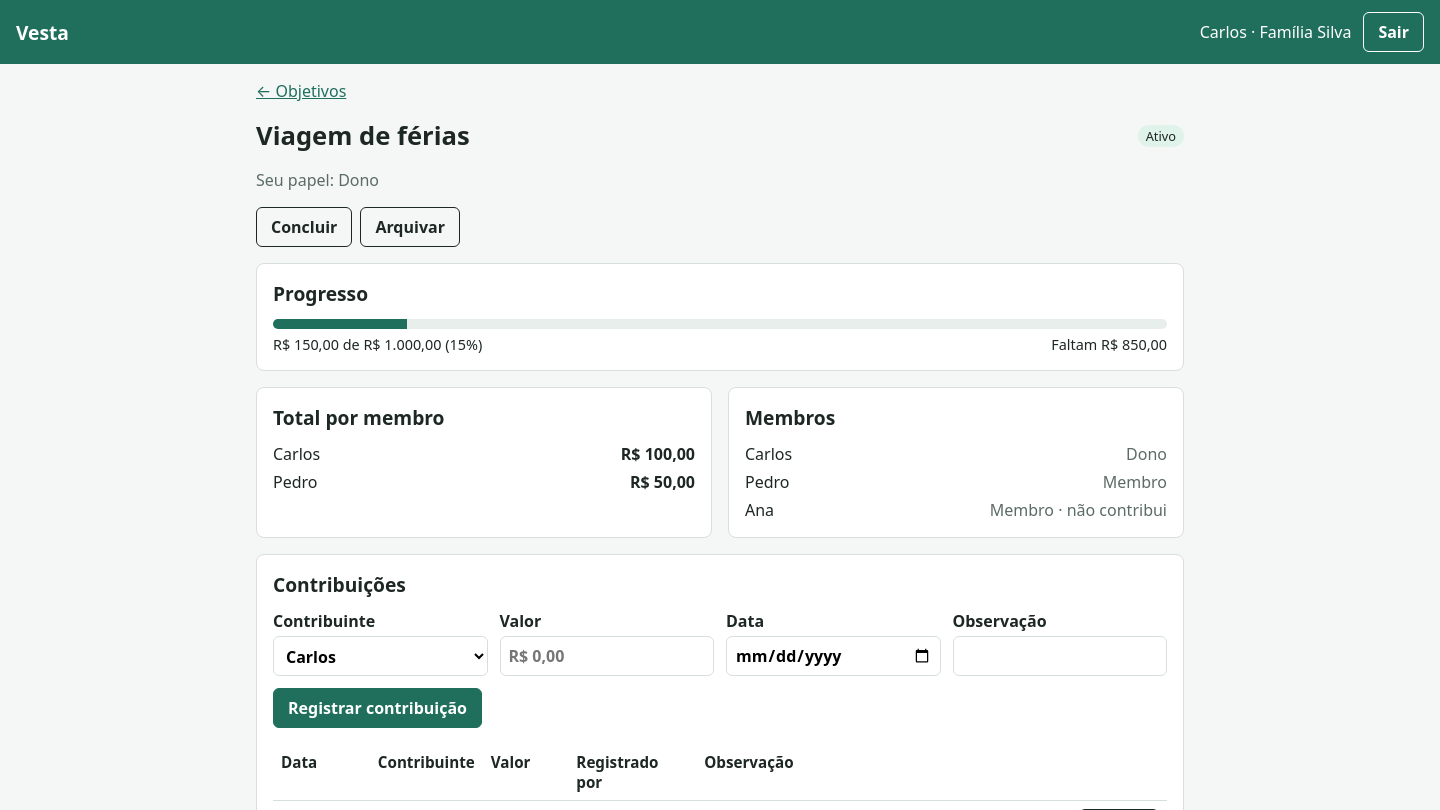
GoalDetailPage › shows the backend message when an action is rejected
Click the button "Concluir" at (304, 227), box [256, 207, 352, 247]
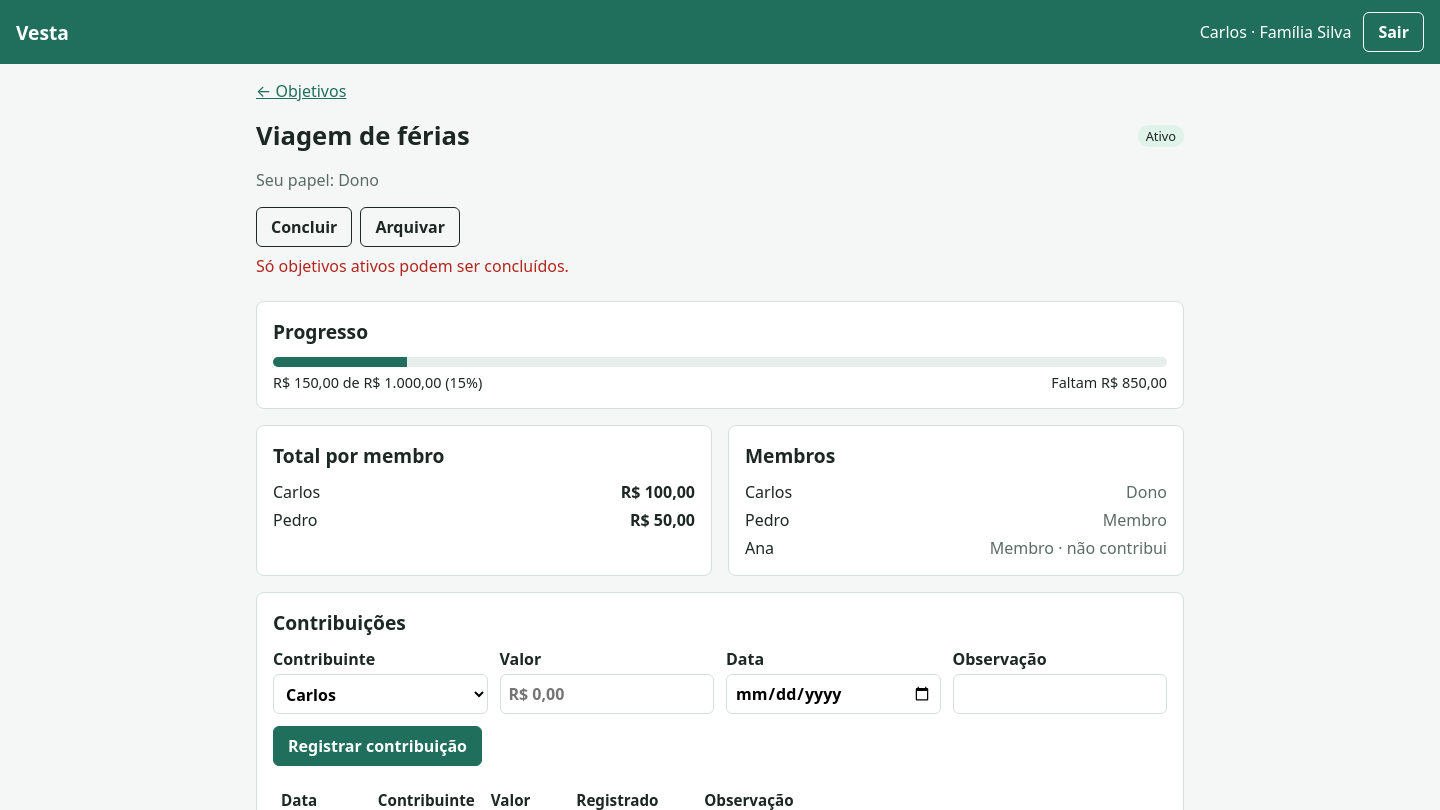
expect the message reads "Só objetivos ativos podem ser concluídos.": met, box [256, 255, 569, 277]
